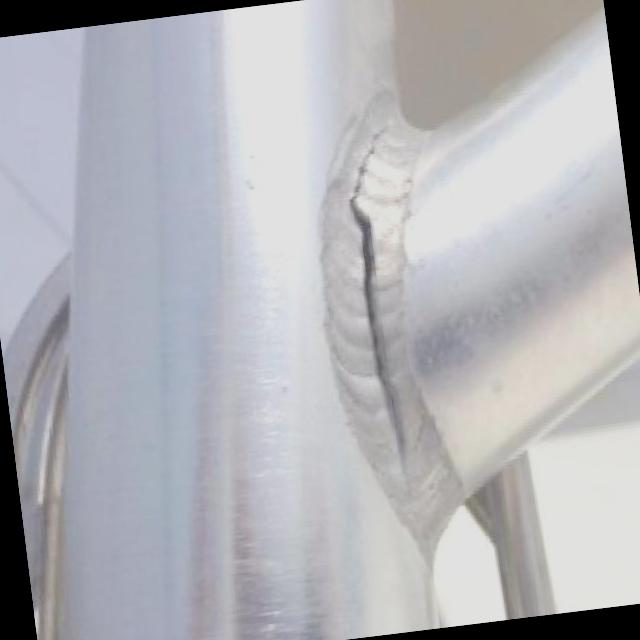crack: (352, 204, 411, 481), (342, 128, 390, 203)
